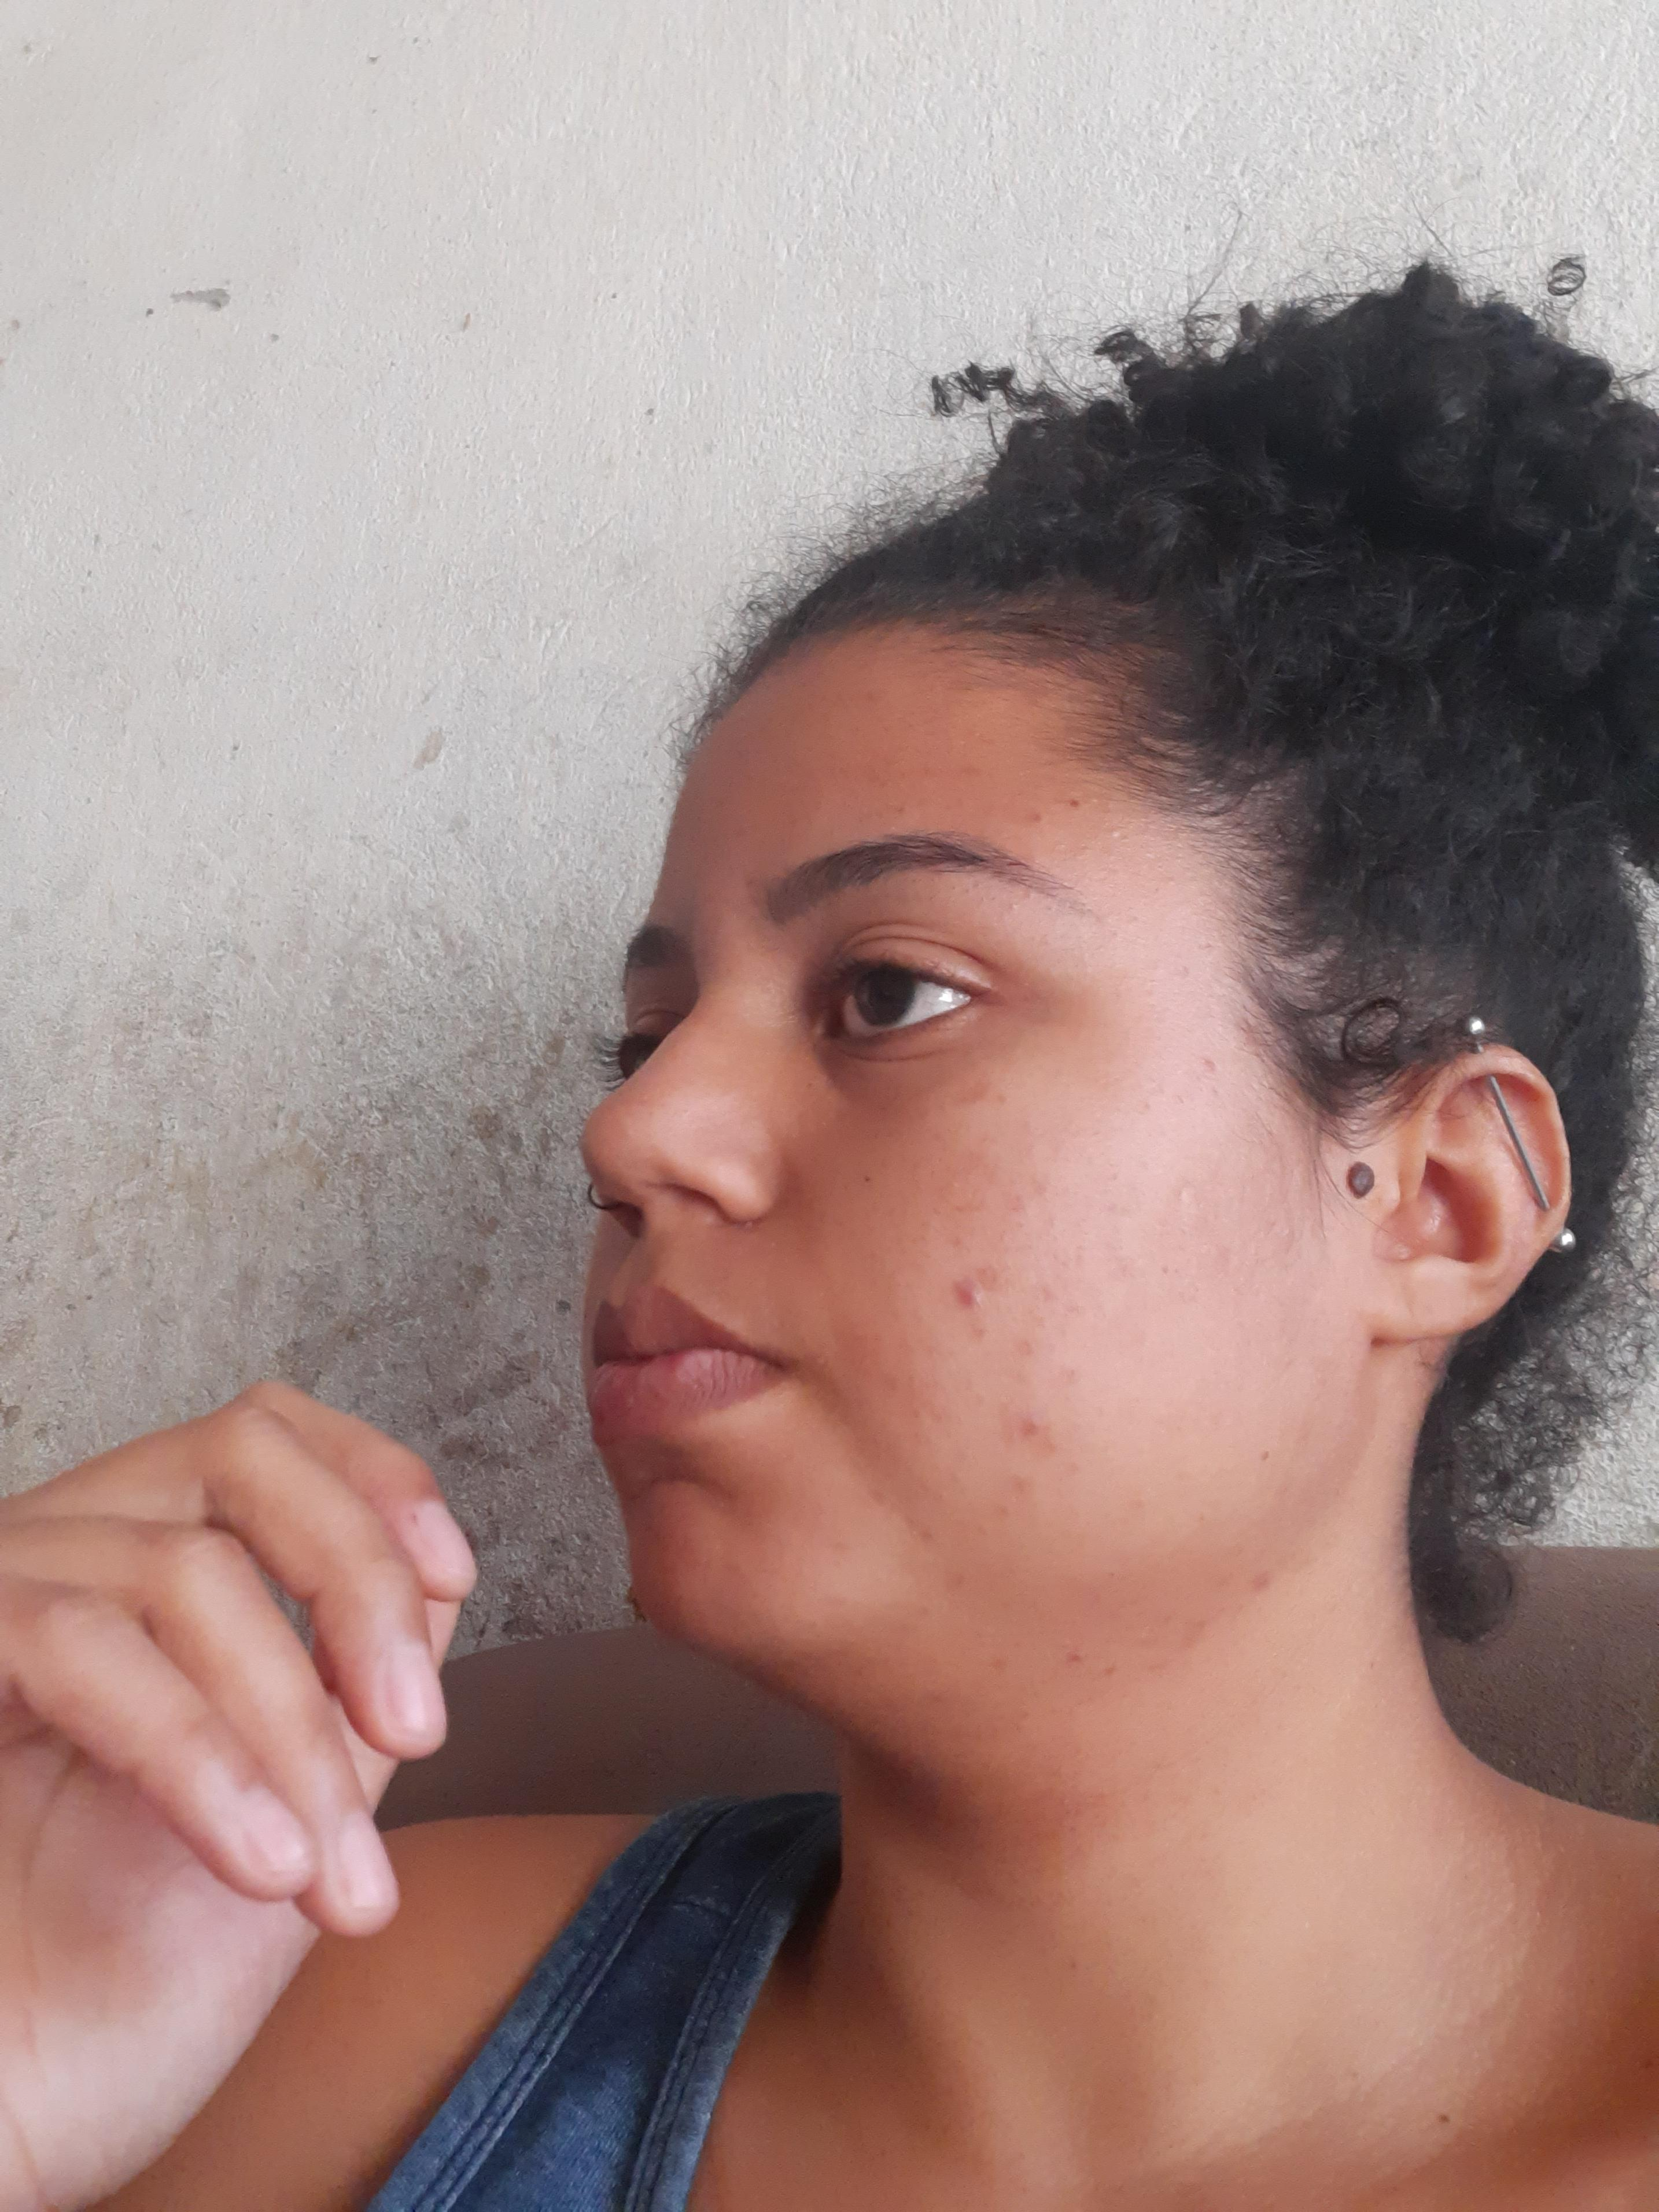Acne: (945, 1263, 1007, 1315), (1246, 1564, 1283, 1601), (901, 1515, 941, 1548), (1208, 1240, 1236, 1287), (828, 1533, 864, 1568), (992, 1404, 1037, 1432), (951, 1080, 999, 1106), (1185, 1052, 1220, 1087), (1039, 1282, 1072, 1317), (920, 1679, 948, 1716), (859, 1482, 897, 1507), (721, 1555, 753, 1585), (1035, 1421, 1060, 1458), (1006, 1472, 1037, 1500), (986, 1648, 1009, 1684), (1006, 1193, 1035, 1221), (965, 1315, 992, 1345), (1171, 1177, 1195, 1209), (878, 1366, 908, 1390), (945, 1566, 964, 1601), (1012, 1334, 1040, 1355), (1058, 1360, 1079, 1386), (1067, 1644, 1091, 1665), (1103, 1656, 1121, 1681), (1030, 1176, 1049, 1197), (957, 763, 985, 777), (1028, 805, 1042, 827)
